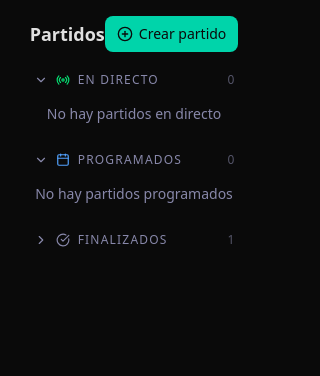
Test: AdminPartidosPage › shows delete confirmation for finished match
Click the button "Finalizados 1" at (134, 240), box 30,232 -> 238,248
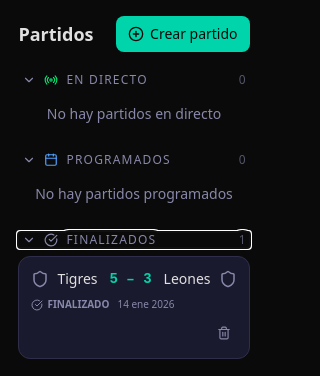
Result: the text "Tigres" is shown at 57,269 -> 98,289
Click the button named "eliminar partido" at (224, 333), box 211,320 -> 237,346
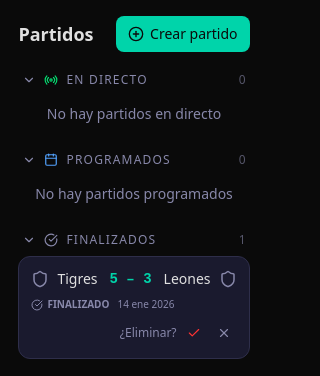
Result: the text "¿Eliminar?" is shown at 120,325 -> 177,341
Result: the button named "confirmar eliminar" is shown at 181,320 -> 207,346
Result: the button named "cancelar eliminar" is shown at 211,320 -> 237,346
